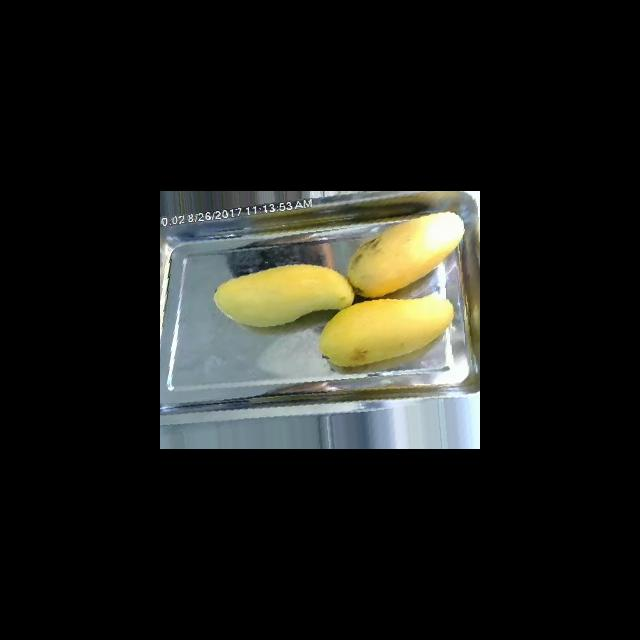mango: (346, 211, 464, 298), (319, 291, 454, 367), (213, 263, 354, 327)
